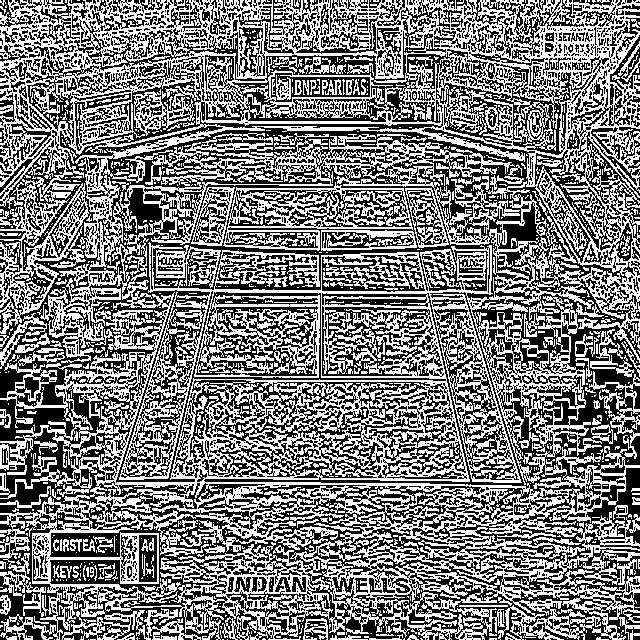left side: (404, 186, 523, 484), (116, 185, 235, 481)
player: (185, 394, 213, 508), (332, 161, 345, 221)
